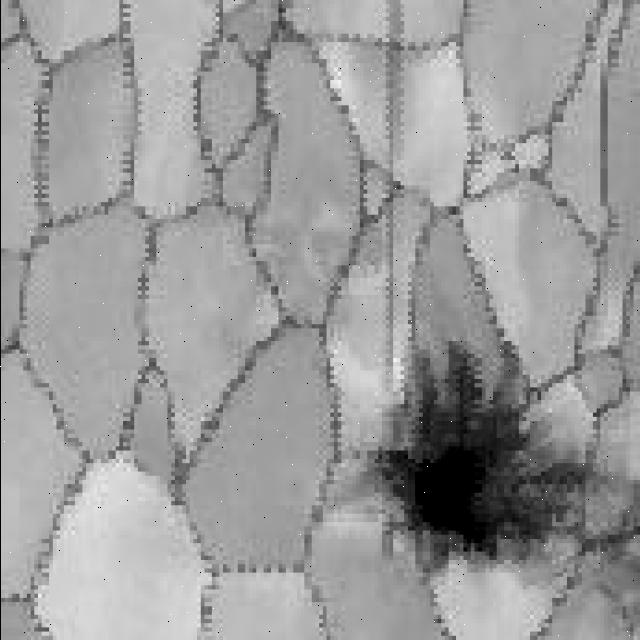good_void: (344, 339, 609, 583)
